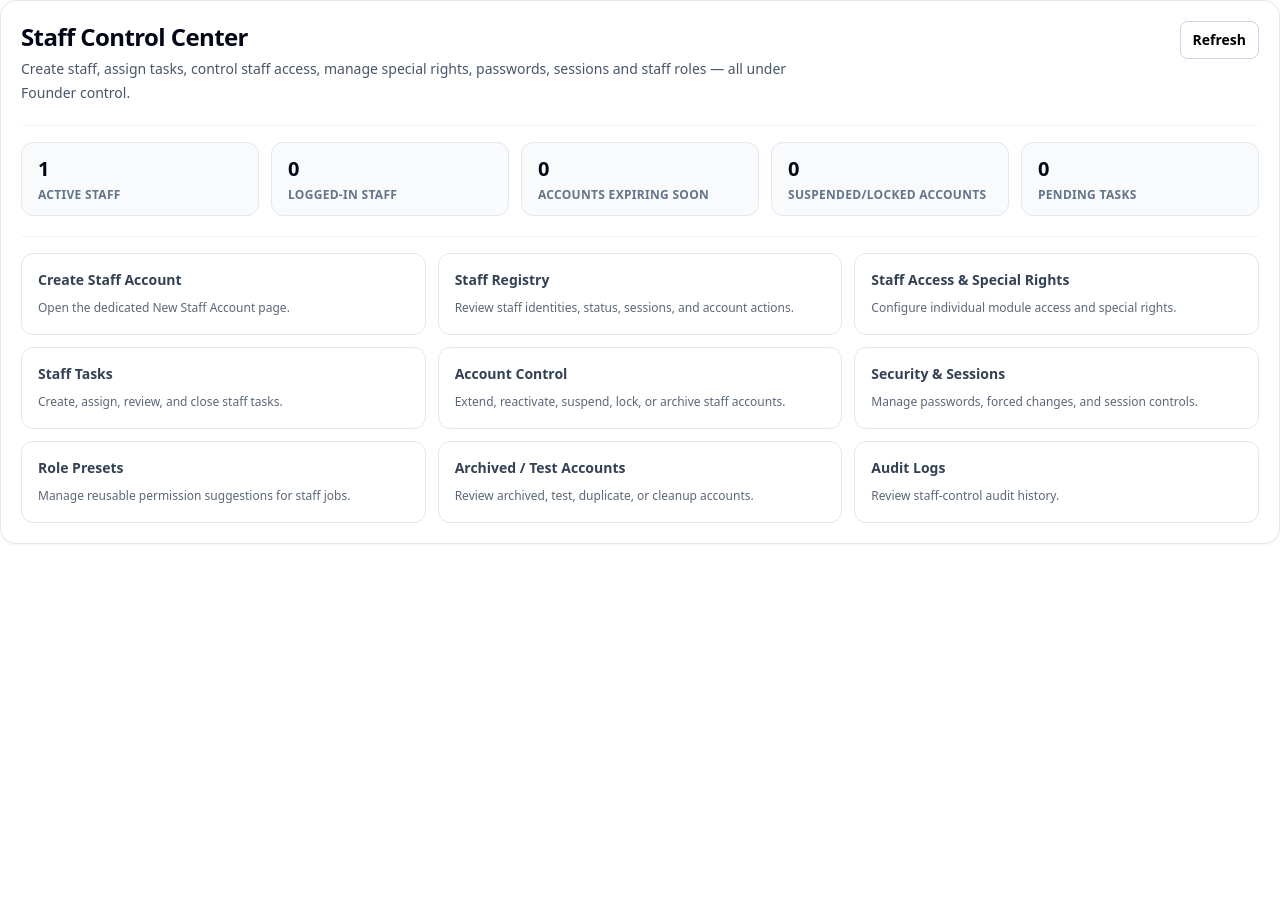
Test: TeamManagement staff access save button › keeps unsaved selections visible and shows backend errors on failure
Click the button "Staff Access & Special Rights". click: click(970, 280)
box: [854,253,1259,335]
(page scrolled)
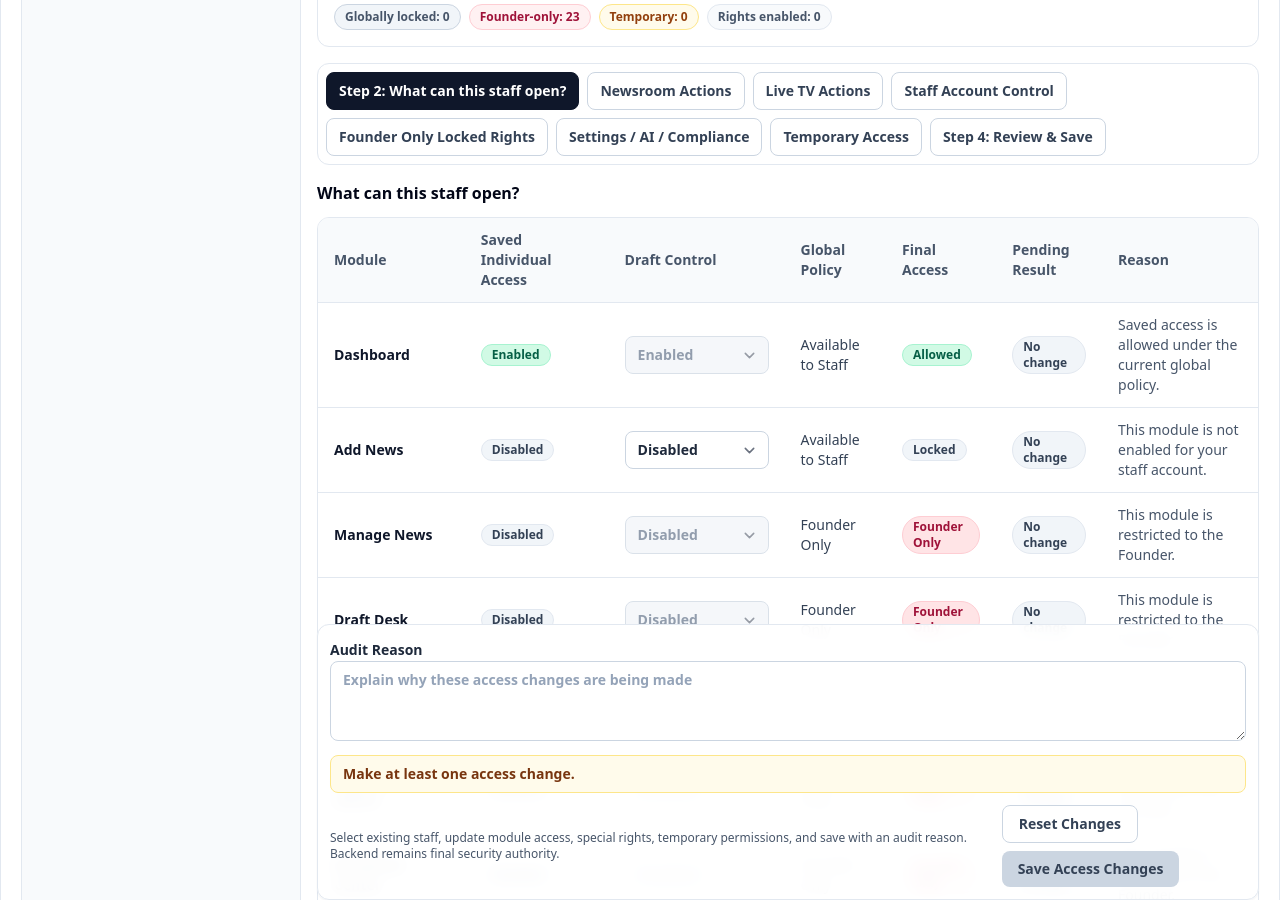
Select "Enabled" in the dropdown in the row of "Add News". click: (696, 450)
box: [624,431,768,469]
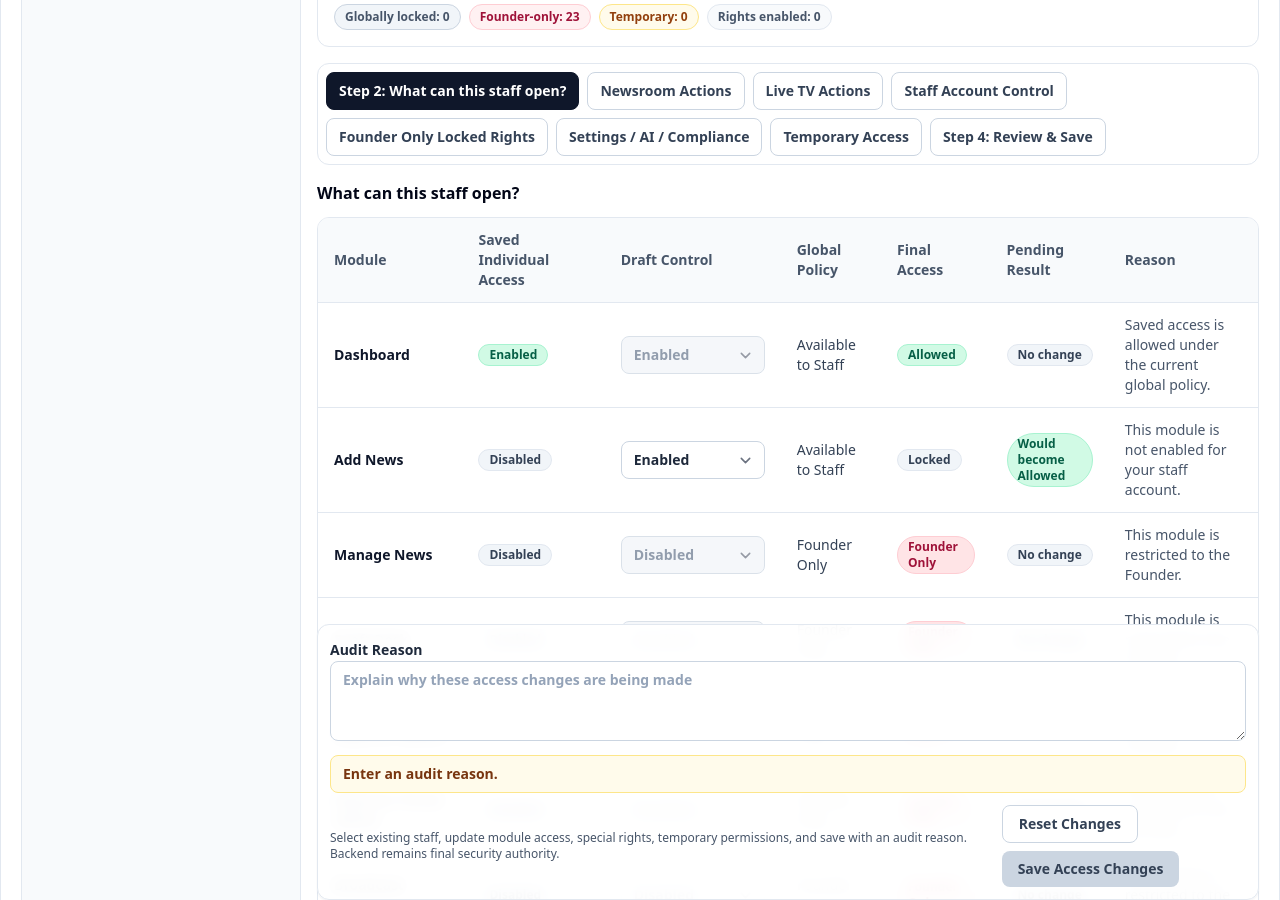
Type "Routine access review" into the text box labelled "Audit Reason". click: (788, 701)
box: [330,661,1246,741]
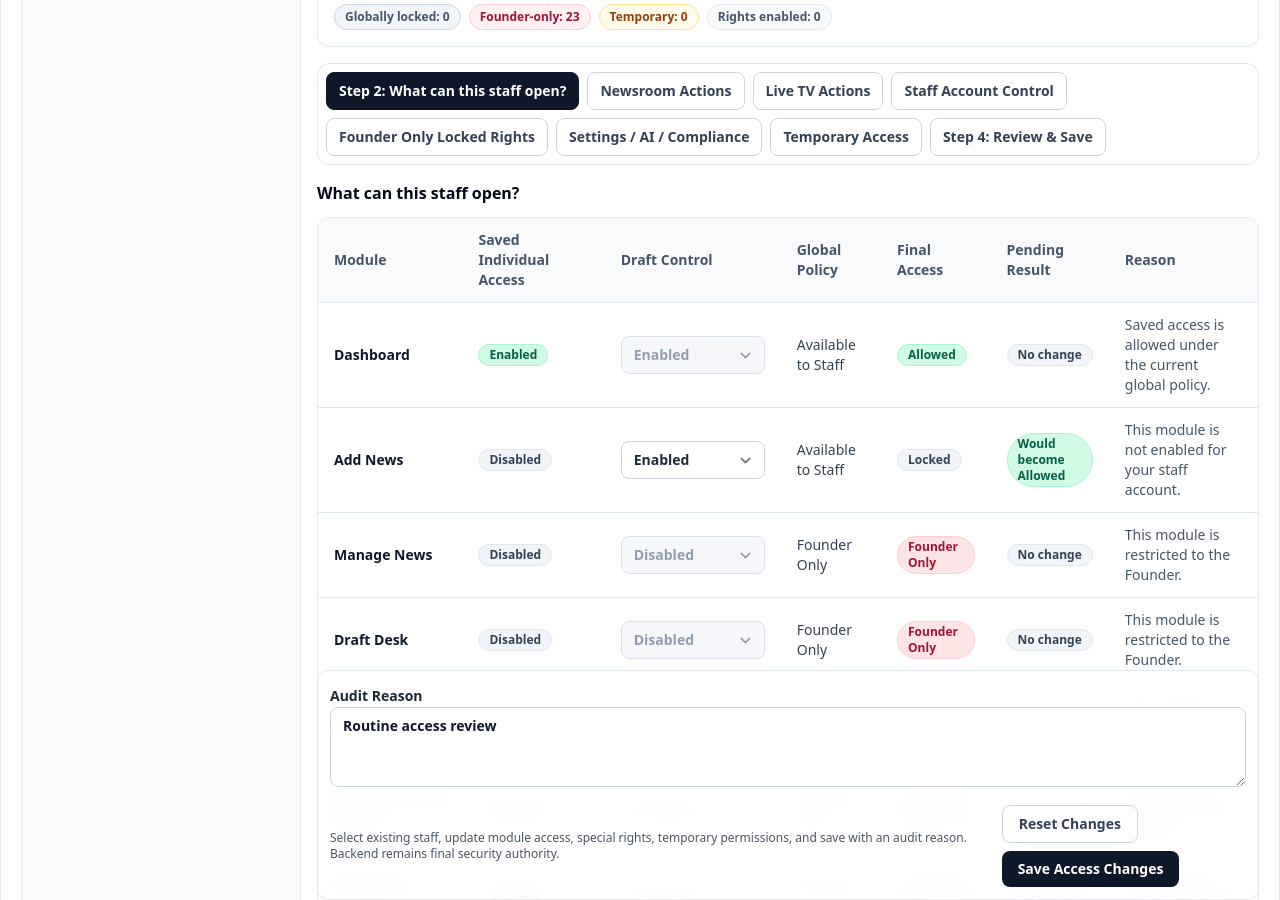
Click the button "Save Access Changes". click: click(1090, 869)
box: [1002,851,1179,887]
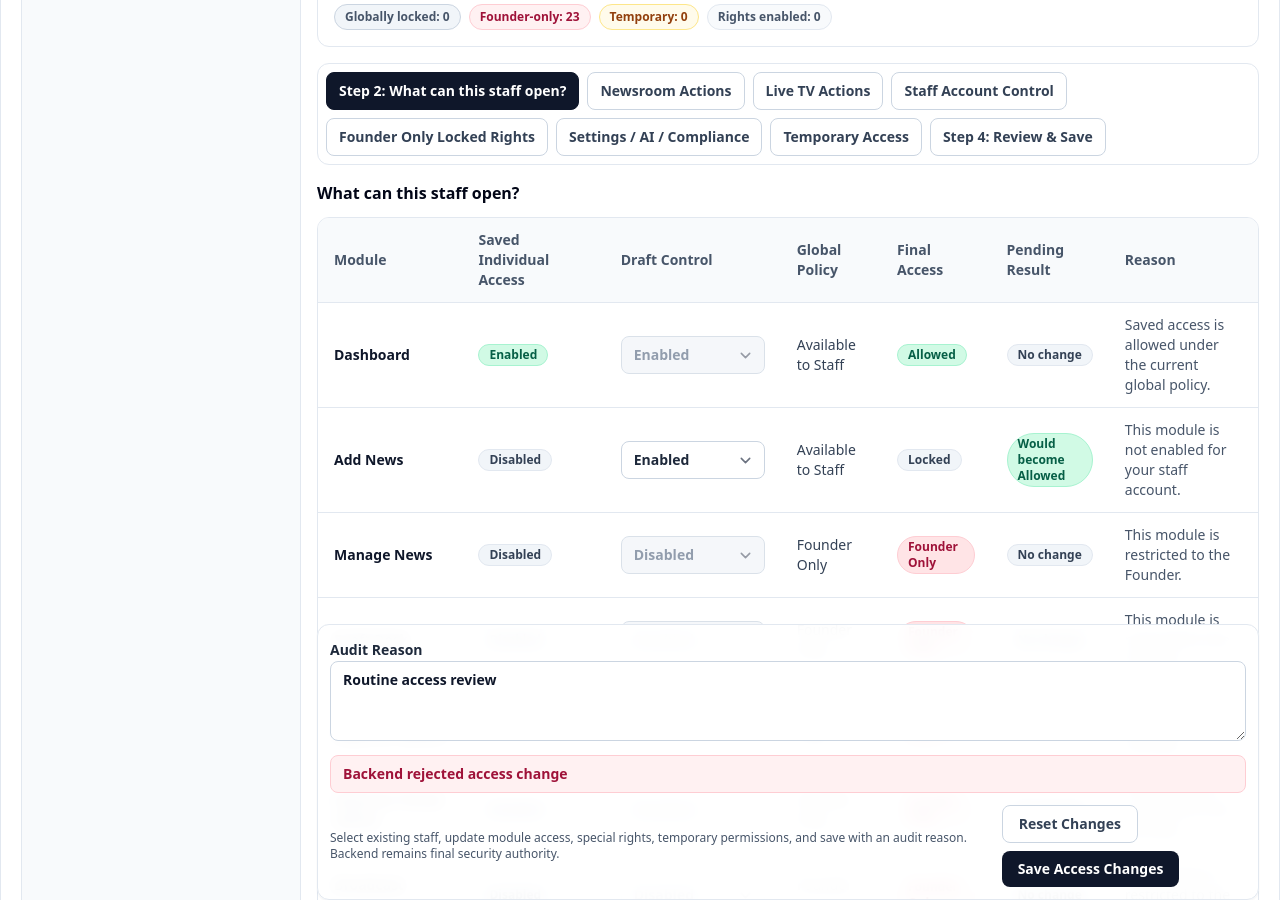
Result: the text "Disabled" next to "Add News" is shown at [489,451,541,468]
Result: the text "Locked" is shown at [897,449,962,471]
Result: the text "Backend rejected access change" is shown at [330,755,1246,793]
